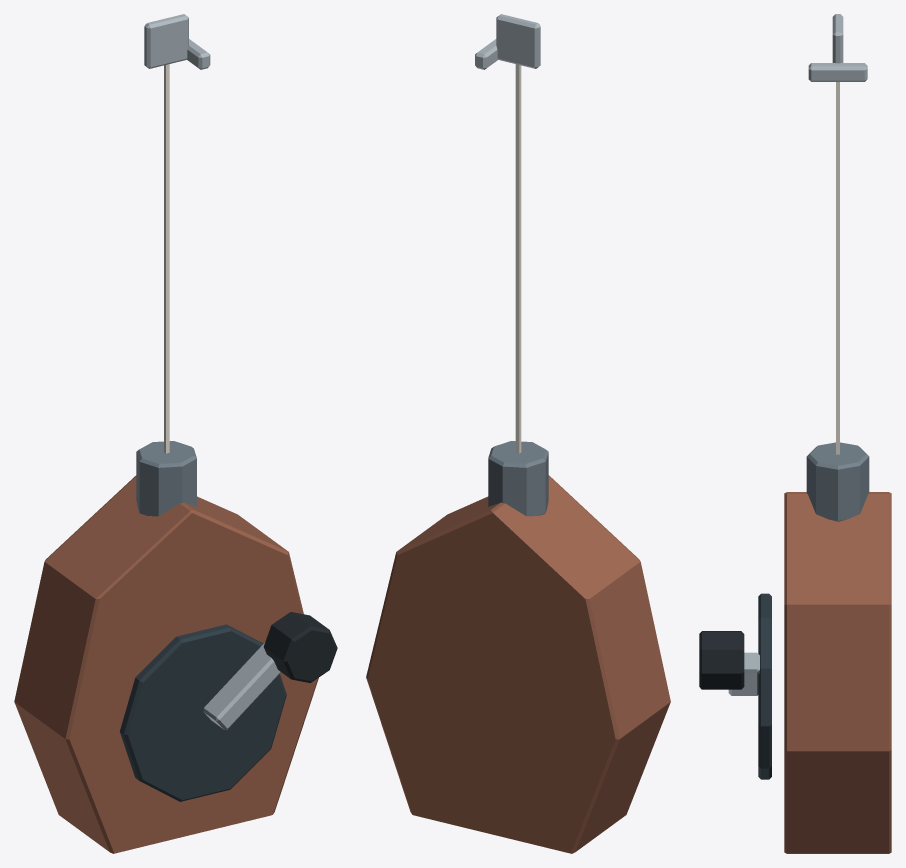
The model's file is b06_chalk_line_reel.glb.
3 renders of one model, left to right at view 1: azimuth 30°, elevation 25°; view 2: azimuth 150°, elevation 25°; view 3: azimuth 270°, elevation 25°, orthographic.
Parts seen in each view (by area): view 1: b06_chalk_line_reel; view 2: b06_chalk_line_reel; view 3: b06_chalk_line_reel.
Boxes of the visible parts, x1,y1,x2,y2 form: b06_chalk_line_reel: (14, 14, 337, 853); b06_chalk_line_reel: (366, 14, 670, 853); b06_chalk_line_reel: (699, 14, 891, 853).
Bounding box in the file's own units: 0.084 × 0.252 × 0.0555.
